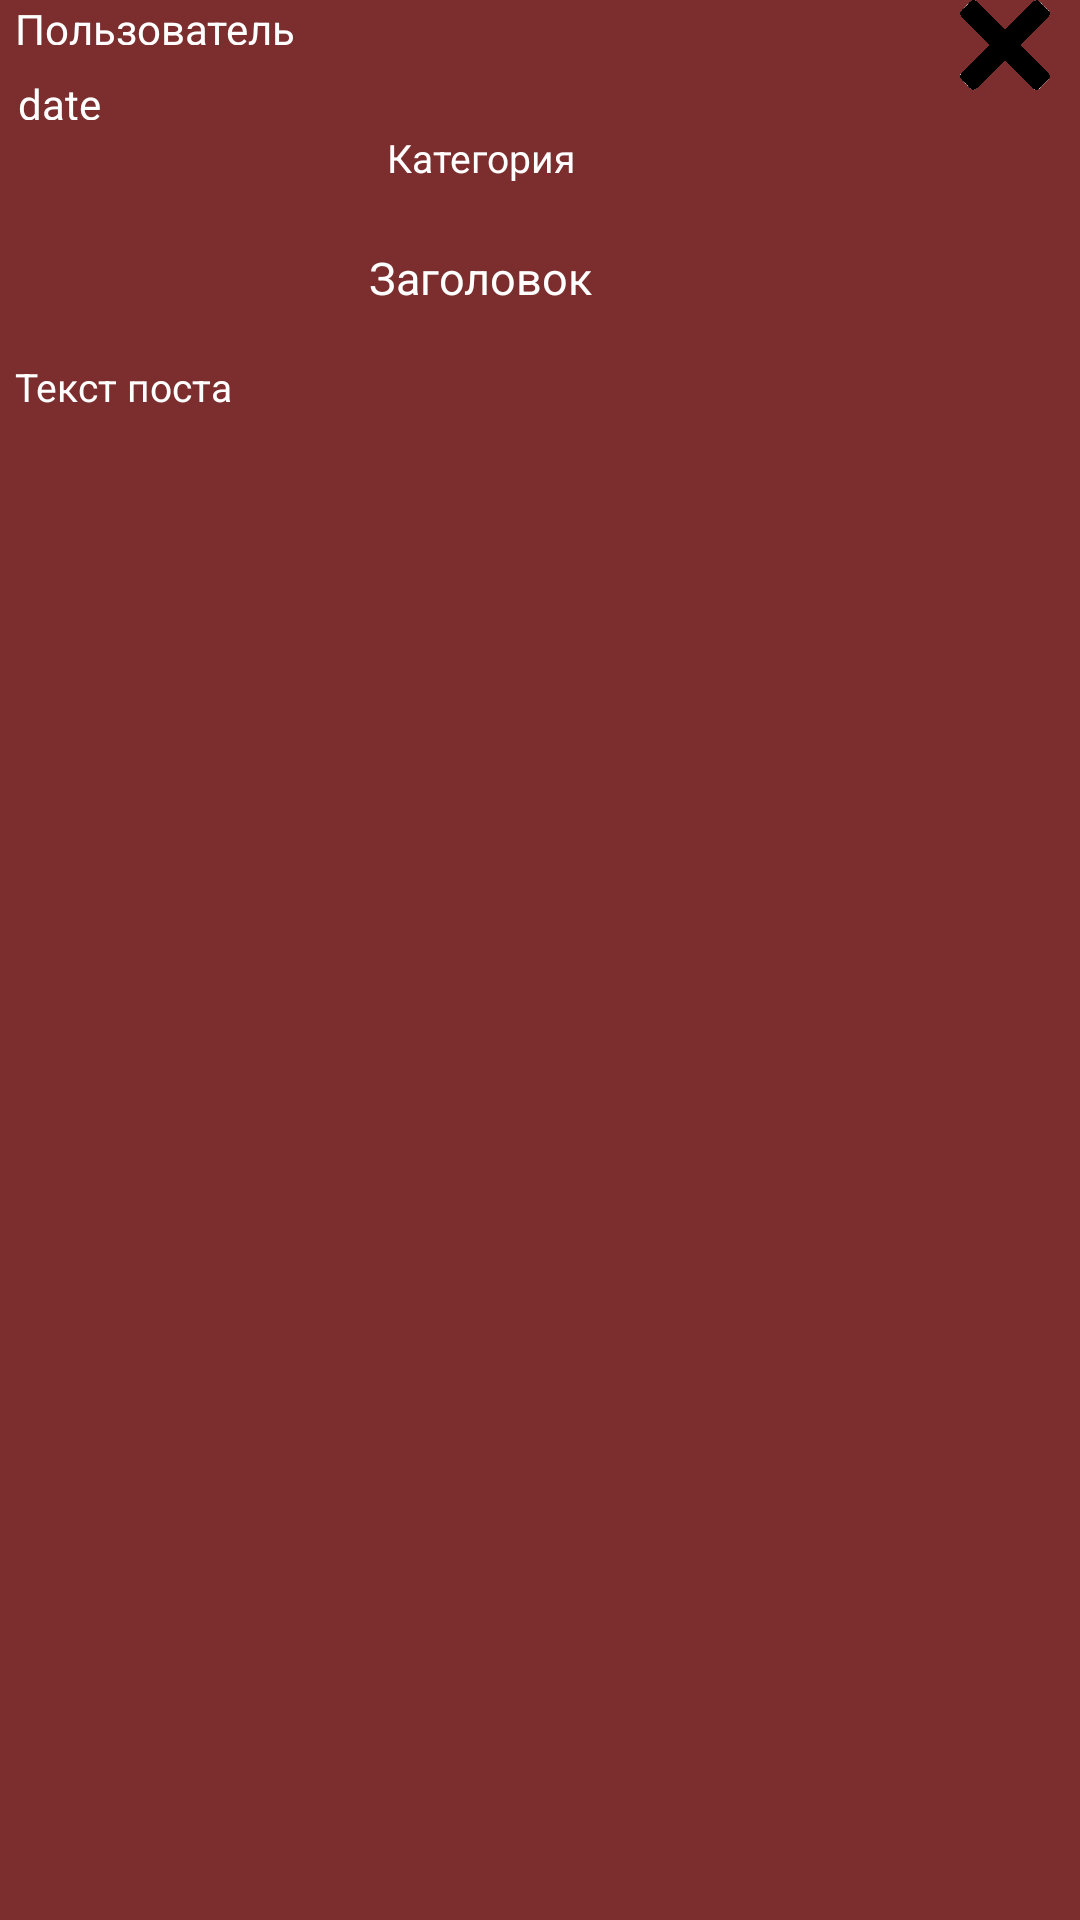

Point at icon controls on the screen. Image size 1080x1920, points as [x,y].
cross: [1005,45]
